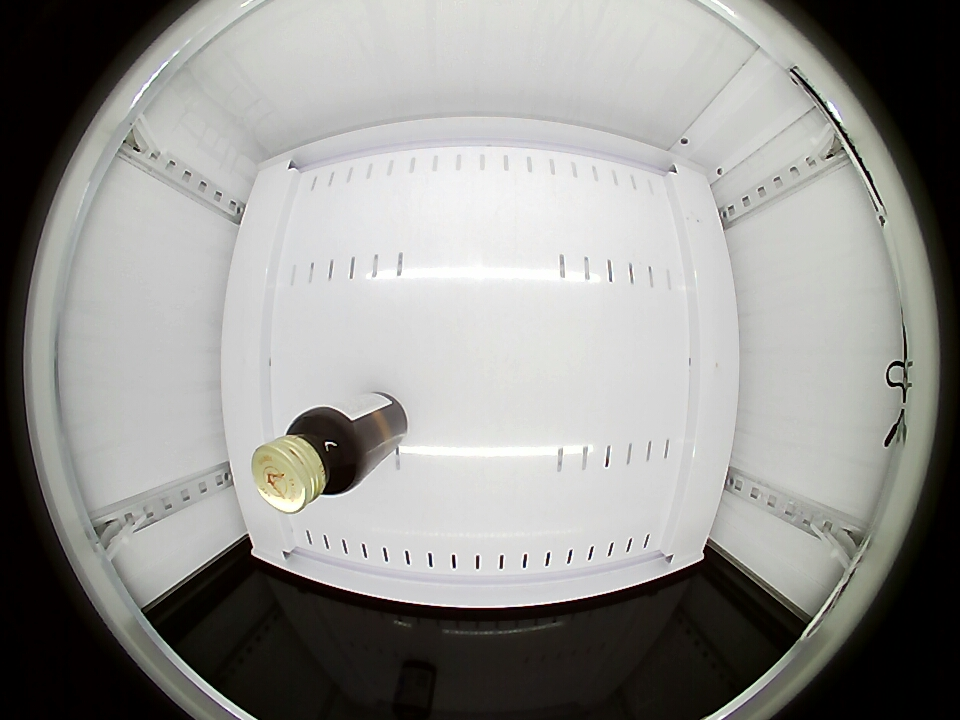libaojian: (251, 407, 364, 513)
